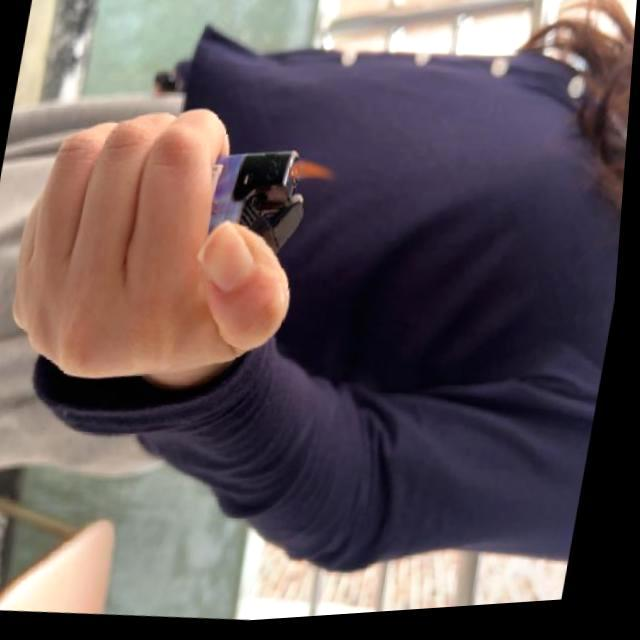fire: (286, 154, 346, 192)
